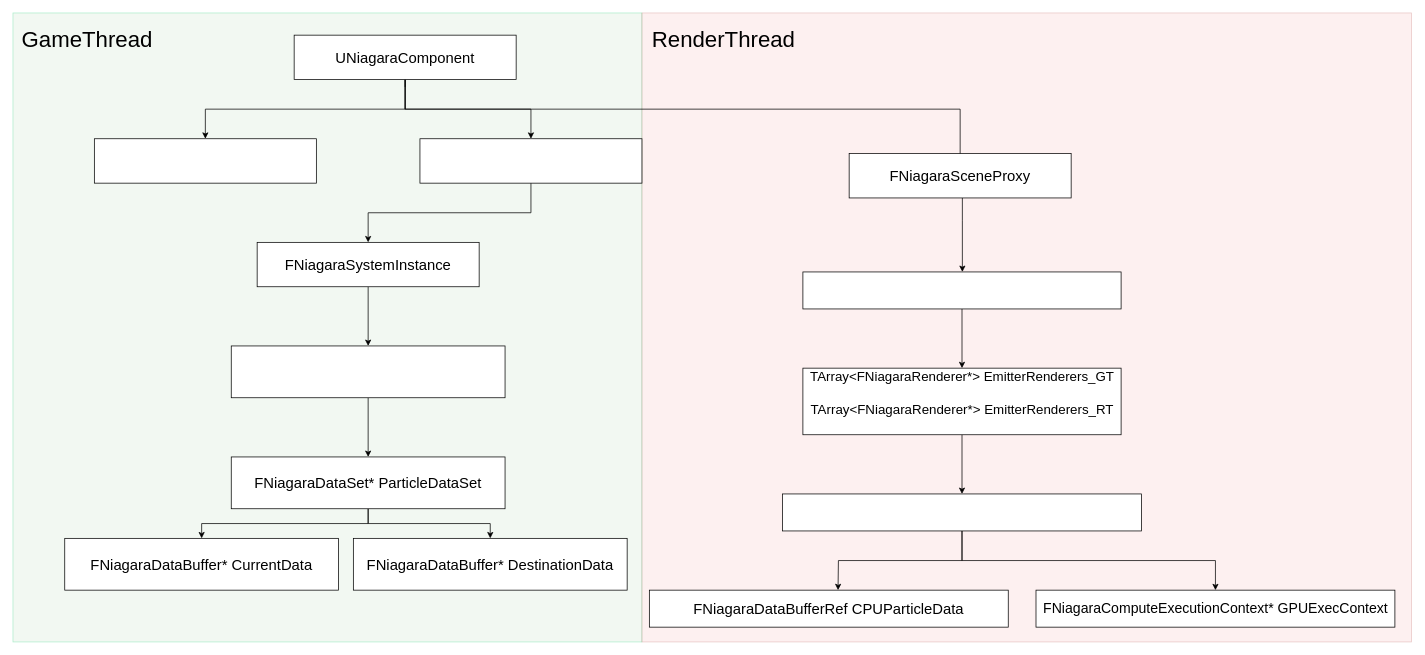
Some shapes in this 1425 by 655 pixel diagram are drawn without their labels. Each missing label, with the box of its shape:
FNiagaraDynamicDataBase *DynamicDataRender: (782, 493, 1141, 531)
FNiagaraSystemRenderData* RenderData: (802, 271, 1121, 309)
SystemInstanceController: (419, 138, 642, 183)
TArray< FNiagaraEmitterInstance > Emitters;: (231, 345, 505, 398)
UNiagaraSystem: (94, 138, 316, 183)
